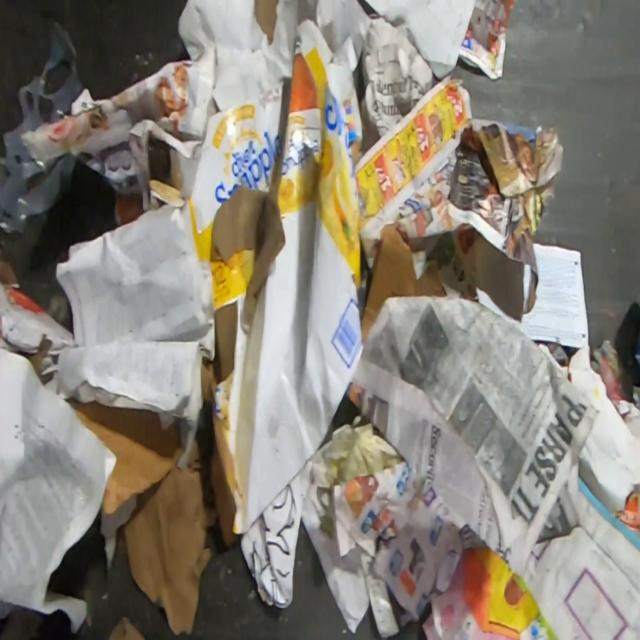cardboard: (148, 15, 365, 532), (62, 396, 185, 540), (362, 219, 448, 351), (239, 461, 313, 610), (0, 282, 80, 374), (208, 432, 239, 549), (106, 615, 148, 639)
rigid_plastic: (0, 16, 96, 236)
